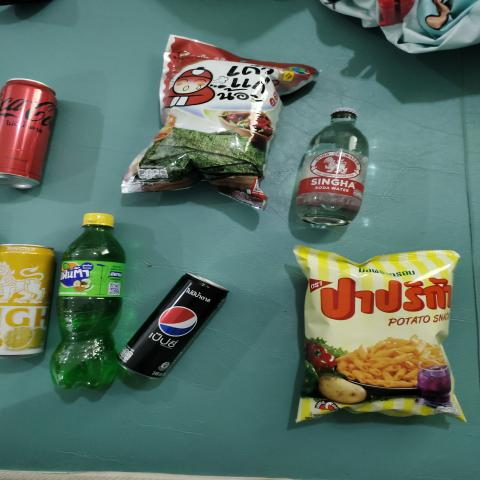fanta_green: (56, 210, 114, 391)
paprika: (293, 252, 455, 436)
pepsi_black: (117, 264, 233, 381)
singha_soda: (290, 103, 378, 224)
taokaenoi: (117, 50, 318, 193)
